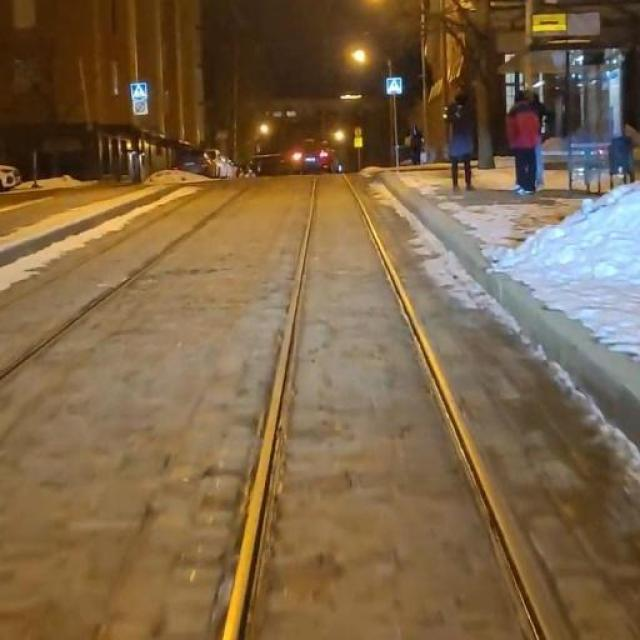vehicle: (248, 132, 338, 178)
